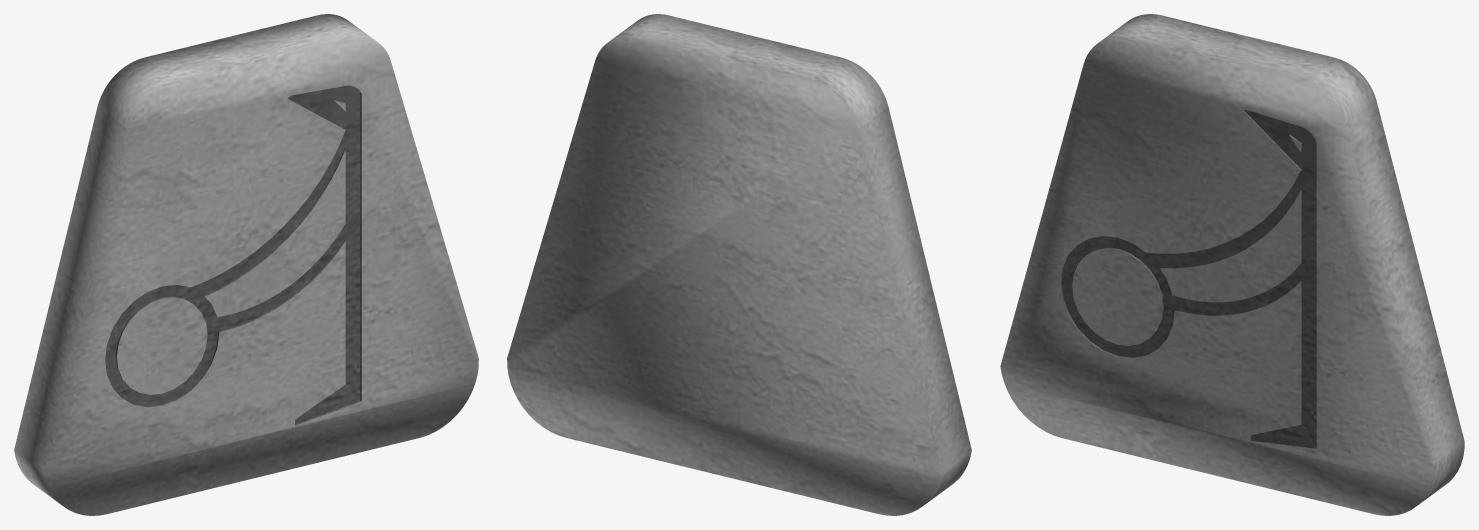
The picture shows the model from 3 angles, left to right: view 1: azimuth 30°, elevation 25°; view 2: azimuth 150°, elevation 25°; view 3: azimuth 330°, elevation 25°; orthographic projection.
Parts seen in each view (by area): view 1: SketchUp (×4); view 2: SketchUp; view 3: SketchUp (×4).
Part boxes in pixels (x1,y1,x2,y2): SketchUp (×4): [14, 14, 478, 515]; SketchUp: [507, 14, 971, 515]; SketchUp (×4): [1000, 14, 1464, 515].
Size of the model in its own units: 13.73 by 1.69 by 12.62.
2 materials, 2 textured.
